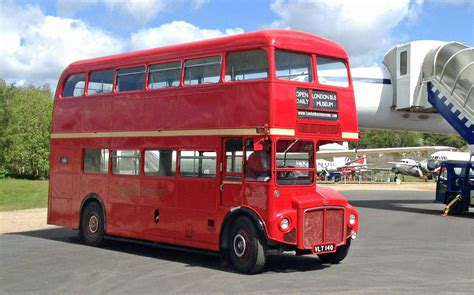bus: (50, 30, 356, 271)
